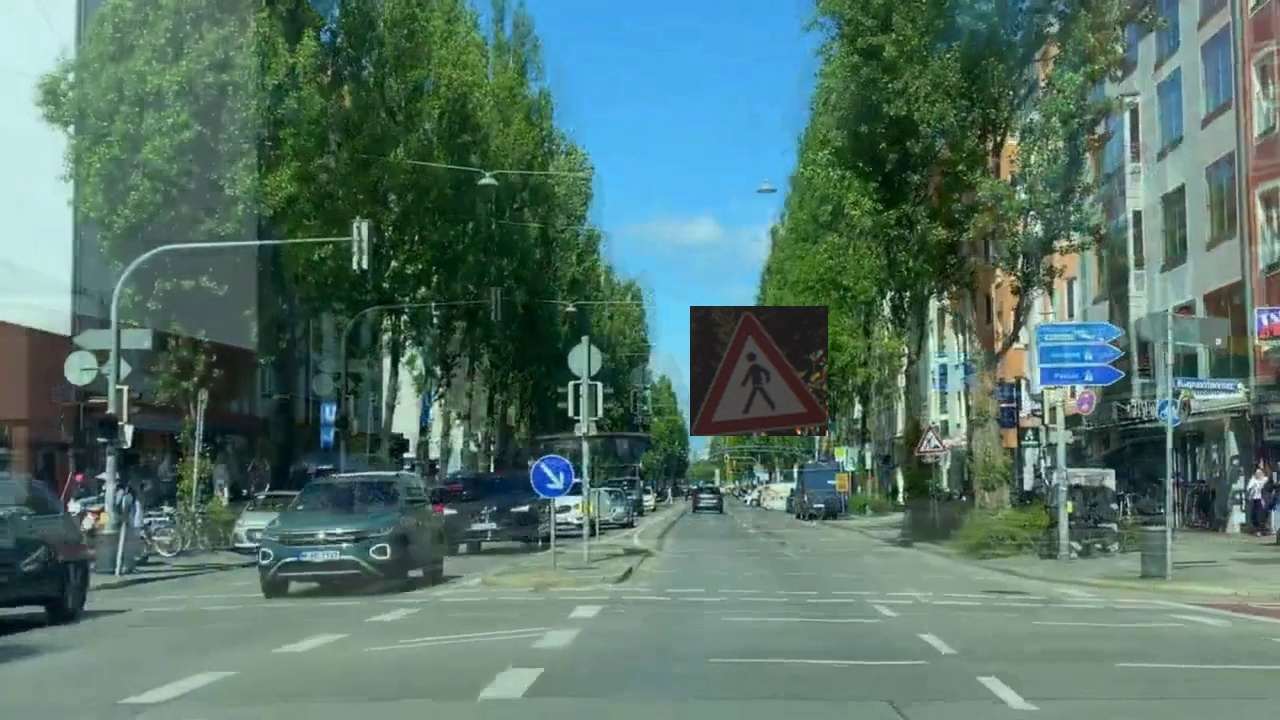Pedestrians: (690, 306, 828, 436)
